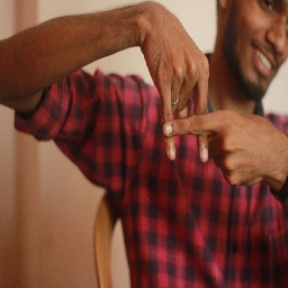H: (135, 60, 244, 181)
